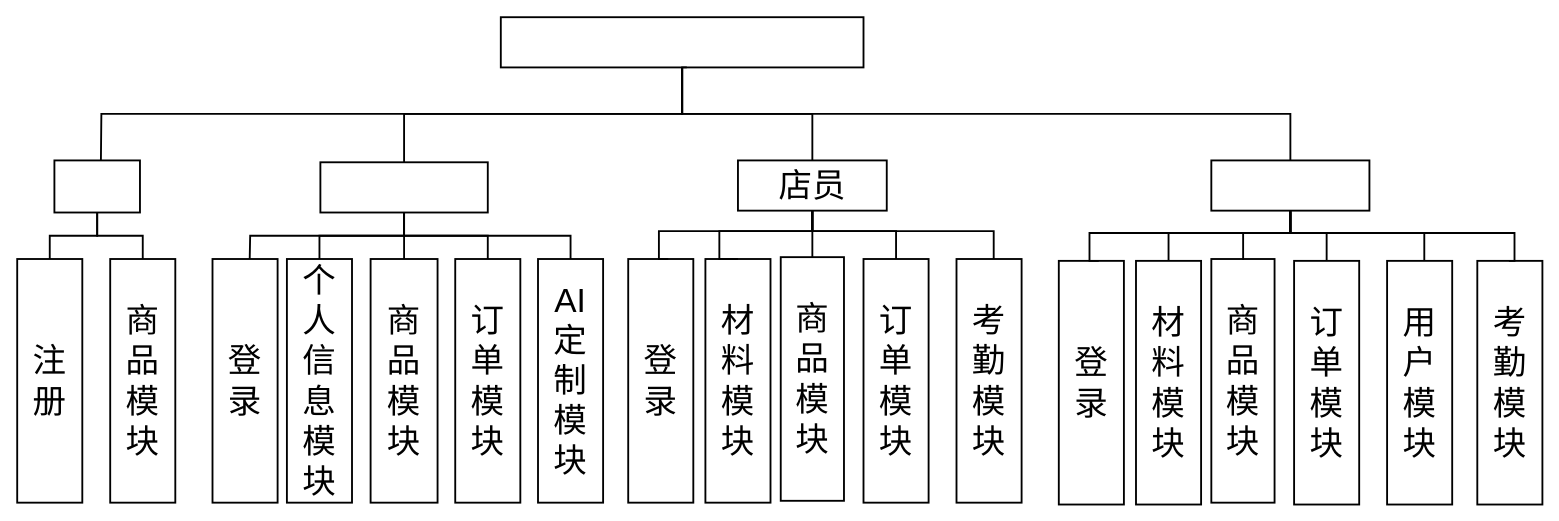
Some shapes in this 1559 by 521 pixel diagram are drawn without their labels. Here are the shapes that lost their labels. From the top down, the box of each, then its label:
(499, 16, 864, 68): AI客制化在线酒吧系统
(53, 159, 140, 213): 游客
(319, 161, 488, 213): 用户
(1210, 159, 1370, 211): 店长
